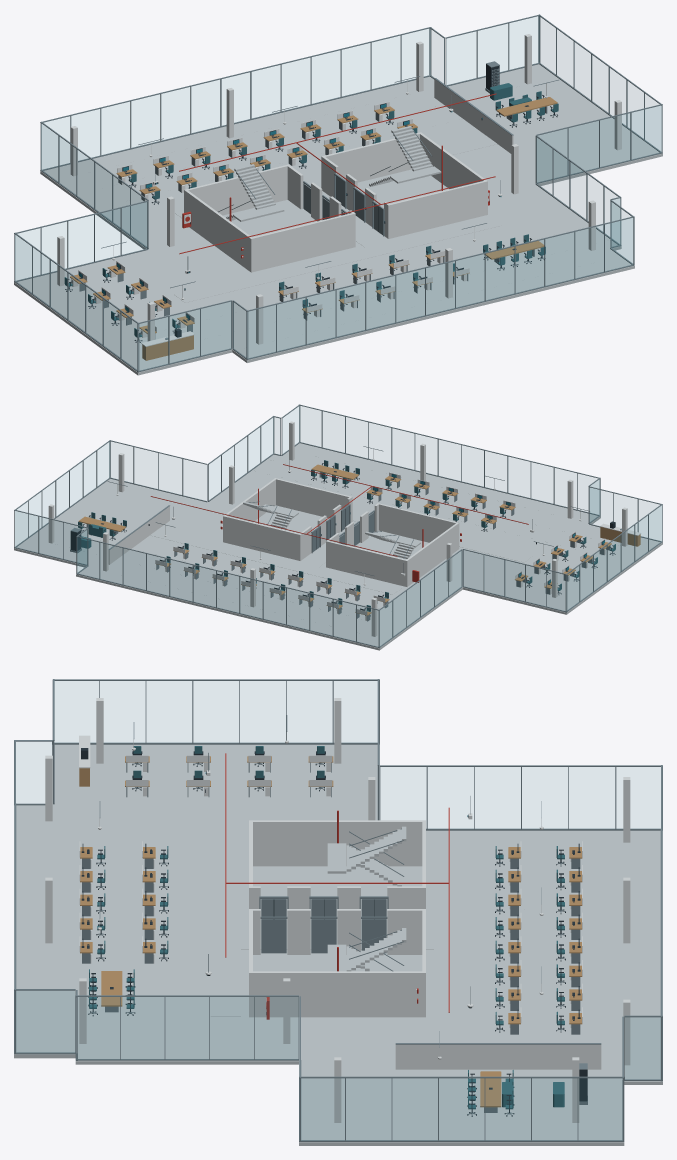
The picture shows the model from 3 angles, top to bottom: view 1: azimuth 30°, elevation 25°; view 2: azimuth 150°, elevation 25°; view 3: azimuth 270°, elevation 25°; orthographic projection. The views are drawn at different scales.
Visible parts, largest first — view 1: T1_F07_SLAB, T1_F07_WHITE, T1_F07_GLASS_S, T1_F07_GLASS_N, T1_F07_STEEL, T1_F07_GLASS_W, T1_F07_GLASS_E, T1_F07_WOOD, T1_F07_FABRIC, T1_F07_DARK, T1_F07_RED; view 2: T1_F07_SLAB, T1_F07_WHITE, T1_F07_GLASS_N, T1_F07_STEEL, T1_F07_GLASS_S, T1_F07_GLASS_W, T1_F07_GLASS_E, T1_F07_WOOD, T1_F07_FABRIC, T1_F07_DARK, T1_F07_RED; view 3: T1_F07_SLAB, T1_F07_WHITE, T1_F07_GLASS_E, T1_F07_GLASS_W, T1_F07_STEEL, T1_F07_WOOD, T1_F07_DARK, T1_F07_FABRIC, T1_F07_RED.
Part boxes in pixels (x1,y1,x2,y2): T1_F07_SLAB: [14, 64, 662, 375]; T1_F07_WHITE: [57, 34, 621, 346]; T1_F07_GLASS_S: [140, 106, 660, 370]; T1_F07_GLASS_N: [19, 17, 538, 267]; T1_F07_STEEL: [14, 14, 662, 372]; T1_F07_GLASS_W: [15, 125, 245, 369]; T1_F07_GLASS_E: [431, 18, 657, 243]; T1_F07_WOOD: [70, 97, 557, 360]; T1_F07_FABRIC: [64, 83, 558, 337]; T1_F07_DARK: [65, 64, 557, 342]; T1_F07_RED: [179, 93, 496, 258]; T1_F07_SLAB: [14, 443, 662, 650]; T1_F07_WHITE: [48, 421, 641, 636]; T1_F07_GLASS_N: [15, 512, 564, 646]; T1_F07_STEEL: [14, 404, 662, 648]; T1_F07_GLASS_S: [110, 406, 657, 527]; T1_F07_GLASS_W: [380, 480, 661, 645]; T1_F07_GLASS_E: [18, 408, 298, 536]; T1_F07_WOOD: [78, 464, 640, 615]; T1_F07_FABRIC: [78, 460, 615, 611]; T1_F07_DARK: [70, 463, 615, 616]; T1_F07_RED: [150, 464, 528, 582]; T1_F07_SLAB: [14, 744, 662, 1145]; T1_F07_WHITE: [45, 698, 630, 1122]; T1_F07_GLASS_E: [16, 991, 660, 1139]; T1_F07_GLASS_W: [16, 681, 660, 828]; T1_F07_STEEL: [14, 679, 662, 1141]; T1_F07_WOOD: [79, 756, 582, 1107]; T1_F07_DARK: [81, 748, 587, 1116]; T1_F07_FABRIC: [89, 746, 564, 1109]; T1_F07_RED: [225, 753, 449, 1019].
Size of the model in its own units: 55.47 by 4.5 by 38.19.
